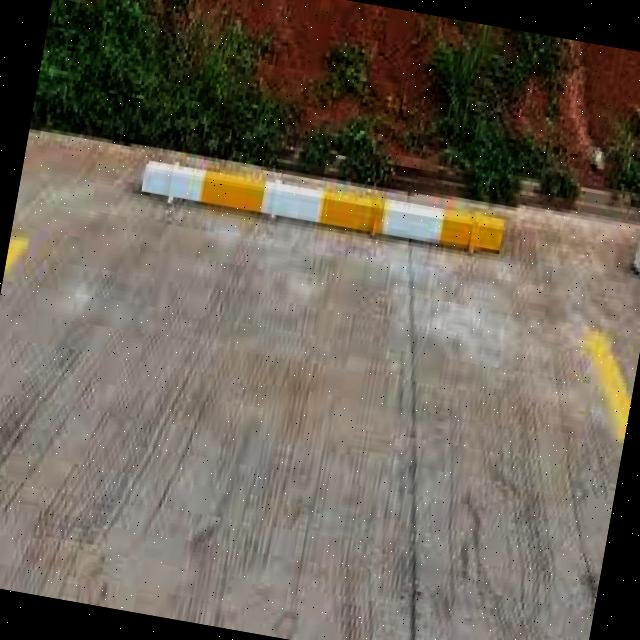curb: (141, 162, 511, 255)
